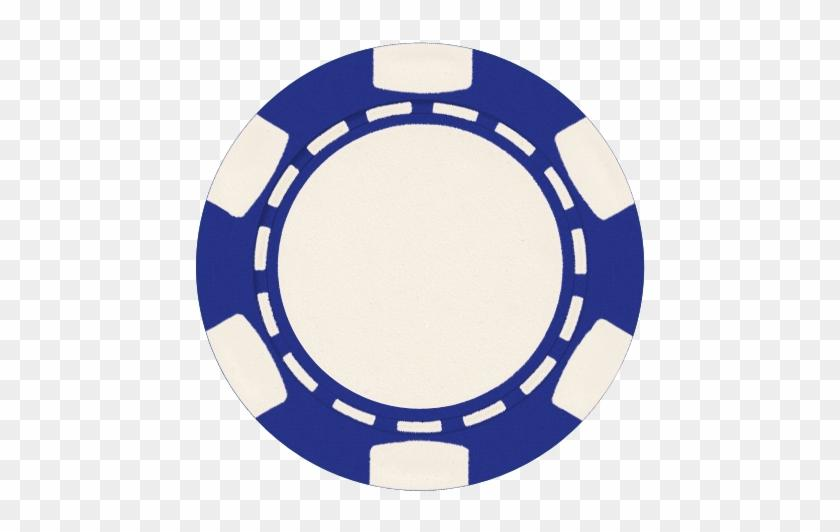chip-blue: (195, 43, 643, 490)
